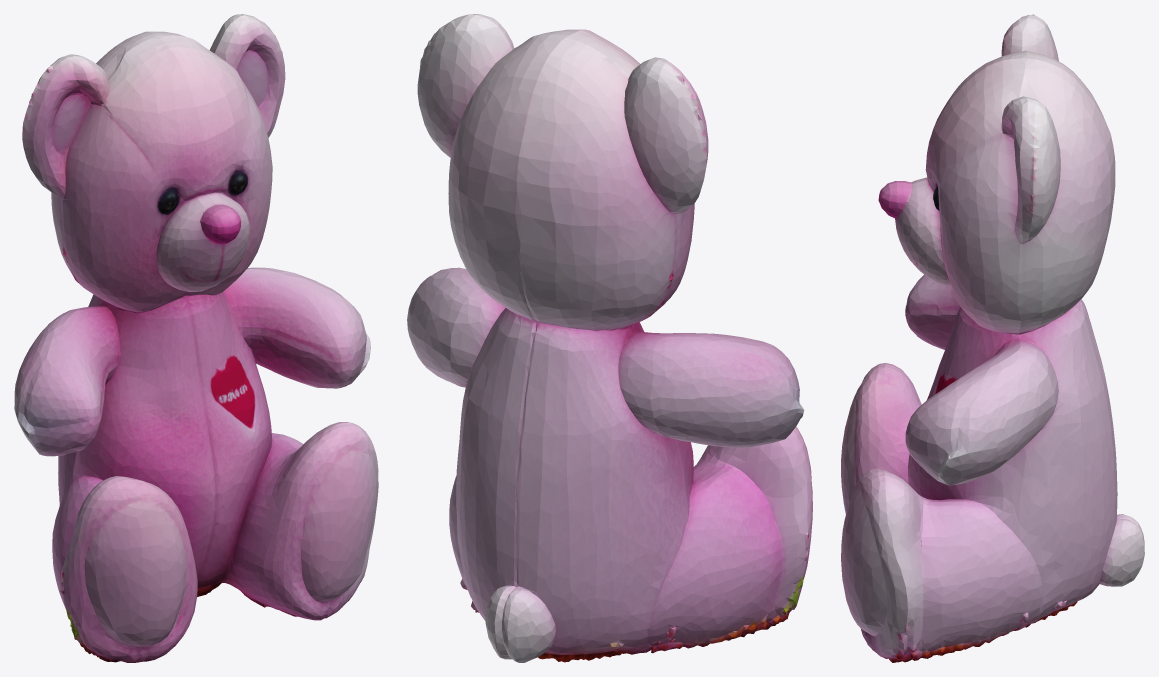
The model's file is Hero.glb.
3 views of the same model, side by side, from view 1: azimuth 30°, elevation 25°; view 2: azimuth 150°, elevation 25°; view 3: azimuth 270°, elevation 25° (orthographic). The views are drawn at different scales.
Parts seen in each view (by area): view 1: world; view 2: world; view 3: world.
Part boxes in pixels (left/top/right/bottom): world: left=14, top=14, right=378, bottom=662; world: left=407, top=14, right=812, bottom=662; world: left=841, top=14, right=1144, bottom=662.
Bounding box in the file's own units: 0.6635 × 1 × 0.5036.
Materials: 1 (1 with a texture image).
